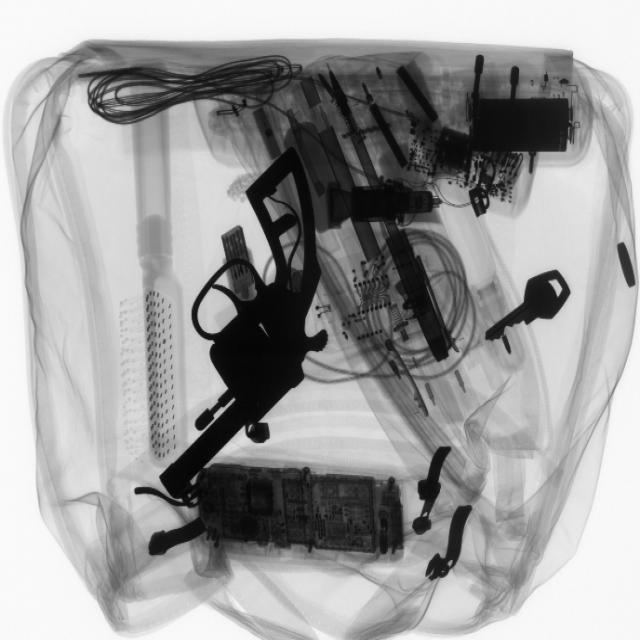GUN: (169, 143, 330, 513)
